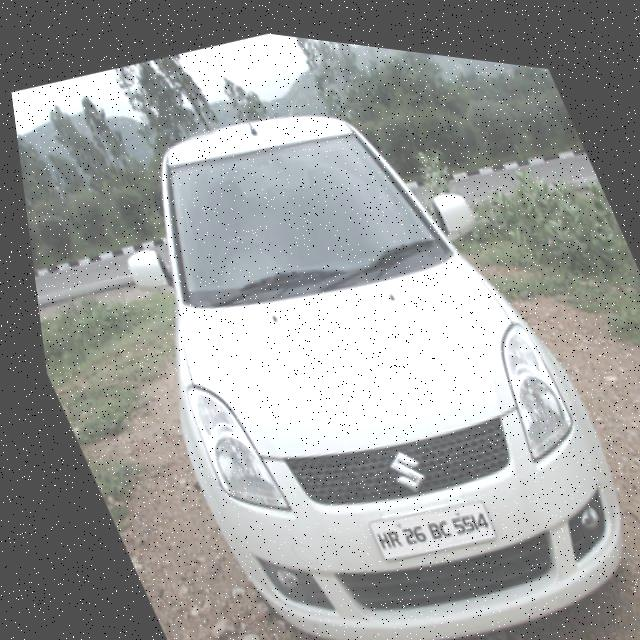license_plate: (348, 473, 489, 569)
